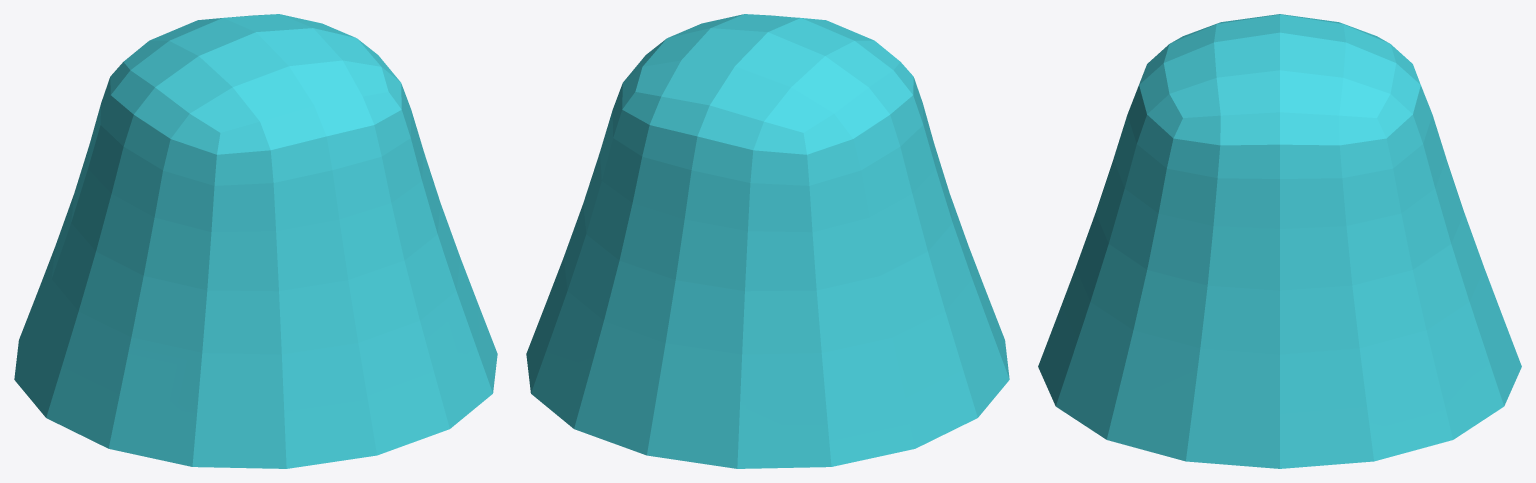
File: Gel_01.fbx
The picture shows the model from 3 angles, left to right: view 1: azimuth 30°, elevation 25°; view 2: azimuth 150°, elevation 25°; view 3: azimuth 270°, elevation 25°; orthographic projection.
Parts seen in each view (by area): view 1: Gel_02; view 2: Gel_02; view 3: Gel_02.
Boxes of the visible parts, <box> form: Gel_02: <box>14,14,497,468</box>; Gel_02: <box>526,14,1009,468</box>; Gel_02: <box>1038,14,1521,468</box>.
Size of the model in its own units: 128 by 97.58 by 128.
